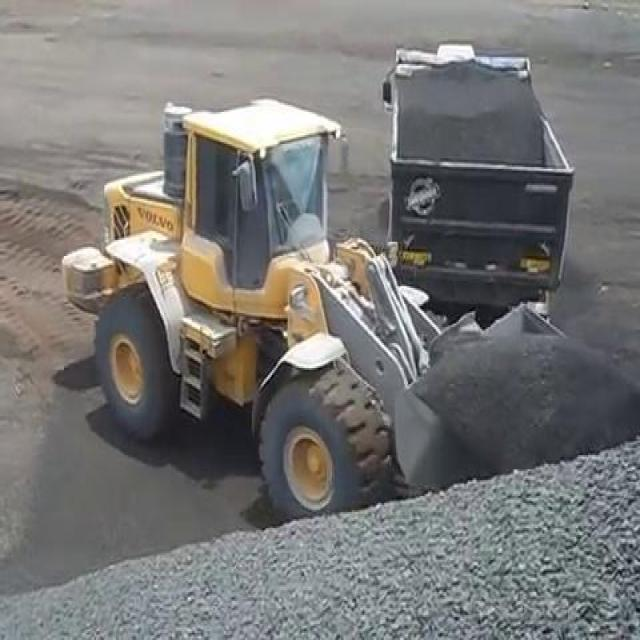buldozerpayloadergrader: (59, 87, 624, 526)
dump_truck: (375, 39, 576, 293)
